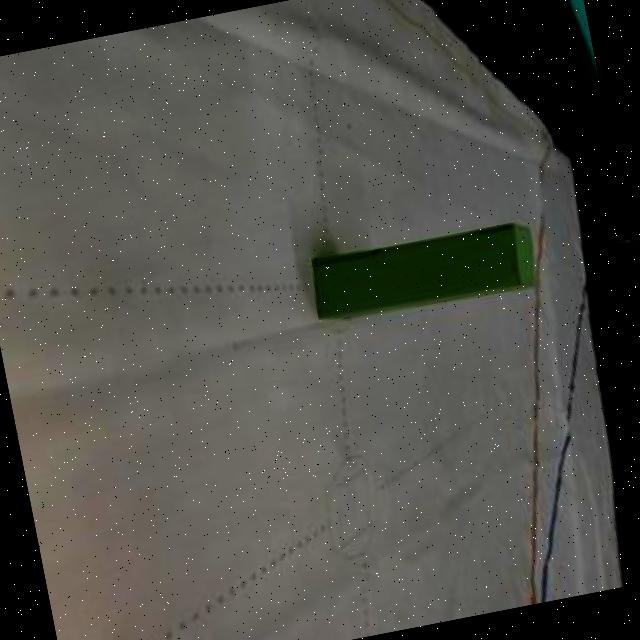greenbox: (308, 218, 546, 331)
